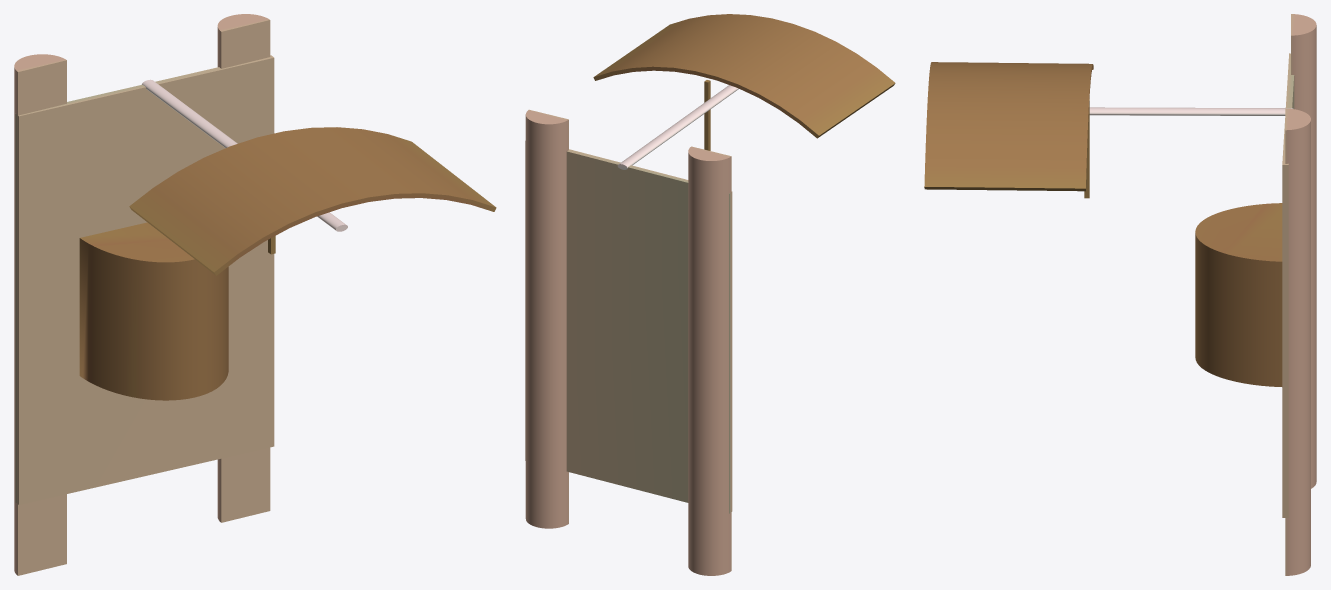
The picture shows the model from 3 angles, left to right: view 1: azimuth 30°, elevation 25°; view 2: azimuth 150°, elevation 25°; view 3: azimuth 270°, elevation 25°; orthographic projection. The views are drawn at different scales.
Parts seen in each view (by area): view 1: panel, arched_sheet, half_round, rounded_post, rounded_post_other, bar; view 2: panel, rounded_post, arched_sheet, rounded_post_other, bar; view 3: arched_sheet, half_round, rounded_post_other, rounded_post, panel, bar.
Boxes of the visible parts, x1,y1,x2,y2 form: panel: [15, 55, 274, 504]; arched_sheet: [129, 127, 496, 275]; half_round: [79, 222, 228, 400]; rounded_post: [14, 54, 66, 575]; rounded_post_other: [217, 14, 270, 522]; bar: [142, 79, 347, 231]; panel: [525, 141, 732, 513]; rounded_post: [688, 146, 731, 575]; arched_sheet: [593, 14, 895, 138]; rounded_post_other: [525, 109, 568, 528]; bar: [617, 85, 738, 169]; arched_sheet: [924, 62, 1093, 191]; half_round: [1195, 203, 1282, 386]; rounded_post_other: [1285, 108, 1310, 575]; rounded_post: [1291, 14, 1316, 488]; panel: [1282, 53, 1294, 517]; bar: [1089, 107, 1293, 115].
Size of the model in its own units: 8.8 by 15 by 11.65.
